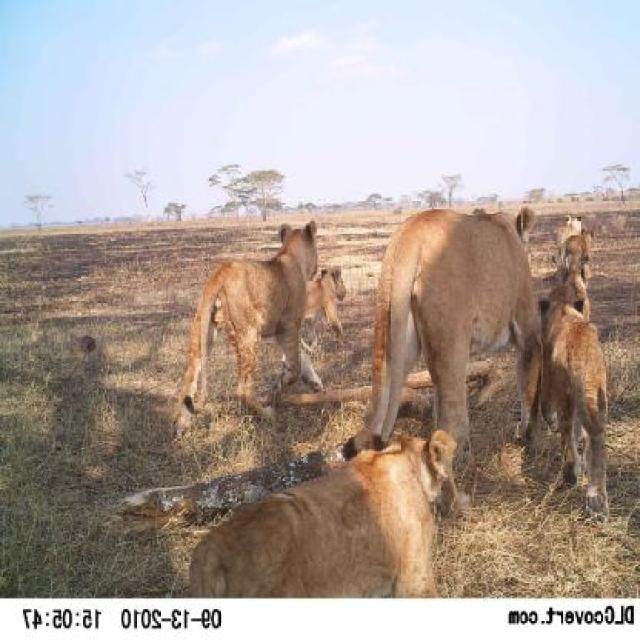Lion: (374, 143, 557, 460), (152, 191, 357, 457), (182, 421, 463, 594)
